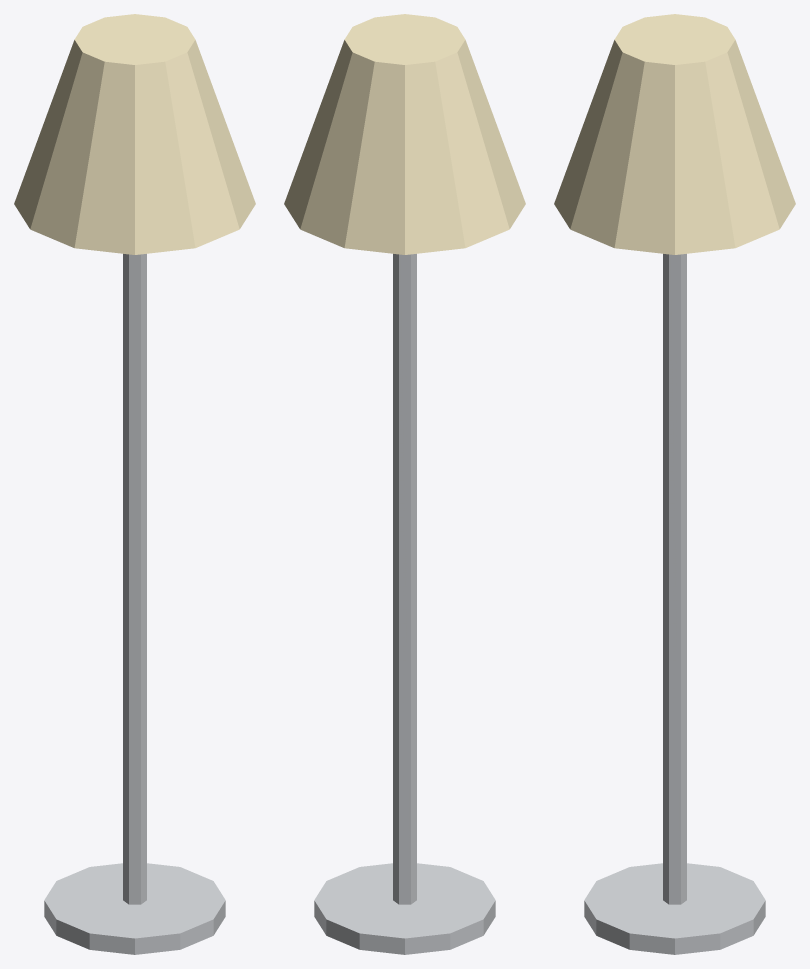
File: lamp.glb
The picture shows the model from 3 angles, left to right: view 1: azimuth 30°, elevation 25°; view 2: azimuth 150°, elevation 25°; view 3: azimuth 270°, elevation 25°; orthographic projection.
Parts seen in each view (by area): view 1: lamp; view 2: lamp; view 3: lamp.
Part boxes in pixels (left/top/right/bottom): lamp: left=14, top=14, right=255, bottom=954; lamp: left=284, top=14, right=525, bottom=954; lamp: left=554, top=14, right=795, bottom=954.
Size of the model in its own units: 0.4 by 1.6 by 0.4.
